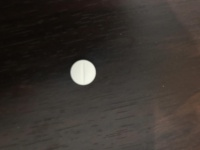Arveles: (69, 58, 97, 87)
